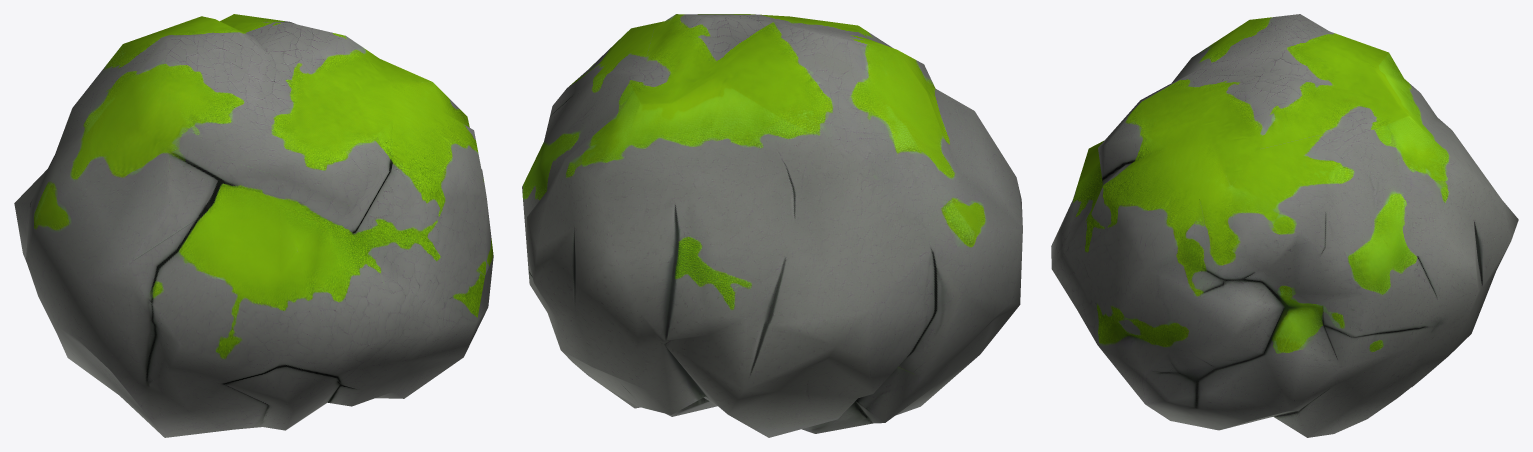
Rendered from p_boulder.glb.
3 views of the same model, side by side, from view 1: azimuth 30°, elevation 25°; view 2: azimuth 150°, elevation 25°; view 3: azimuth 270°, elevation 25° (orthographic). The views are drawn at different scales.
Visible parts, largest first — view 1: Mesh_0; view 2: Mesh_0; view 3: Mesh_0.
Boxes of the visible parts, left/top/right/bottom form: Mesh_0: left=14, top=14, right=493, bottom=437; Mesh_0: left=522, top=14, right=1022, bottom=437; Mesh_0: left=1051, top=14, right=1518, bottom=437.
Bounding box in the file's own units: 0.3554 × 0.3 × 0.3704.
Materials: 1 (1 with a texture image).
